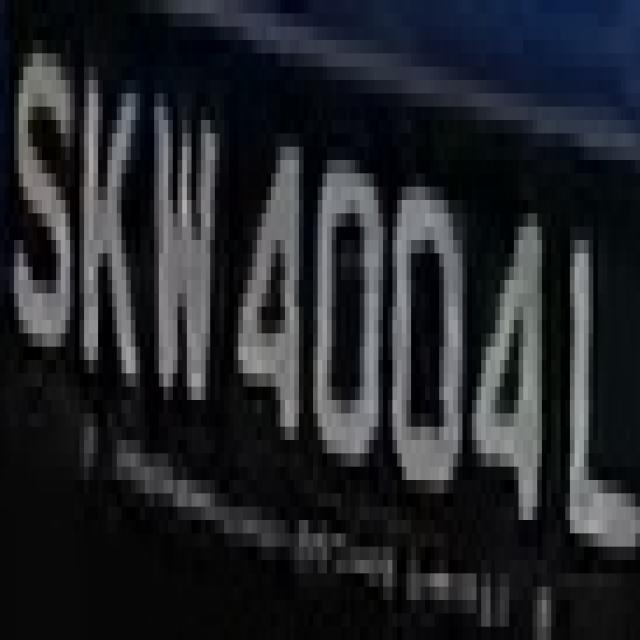0: (383, 134, 472, 534), (313, 94, 388, 494)
4: (462, 133, 552, 560), (229, 67, 304, 493)
K: (79, 27, 145, 440)
L: (556, 186, 626, 586)
S: (5, 0, 74, 360)
W: (140, 27, 224, 480)
